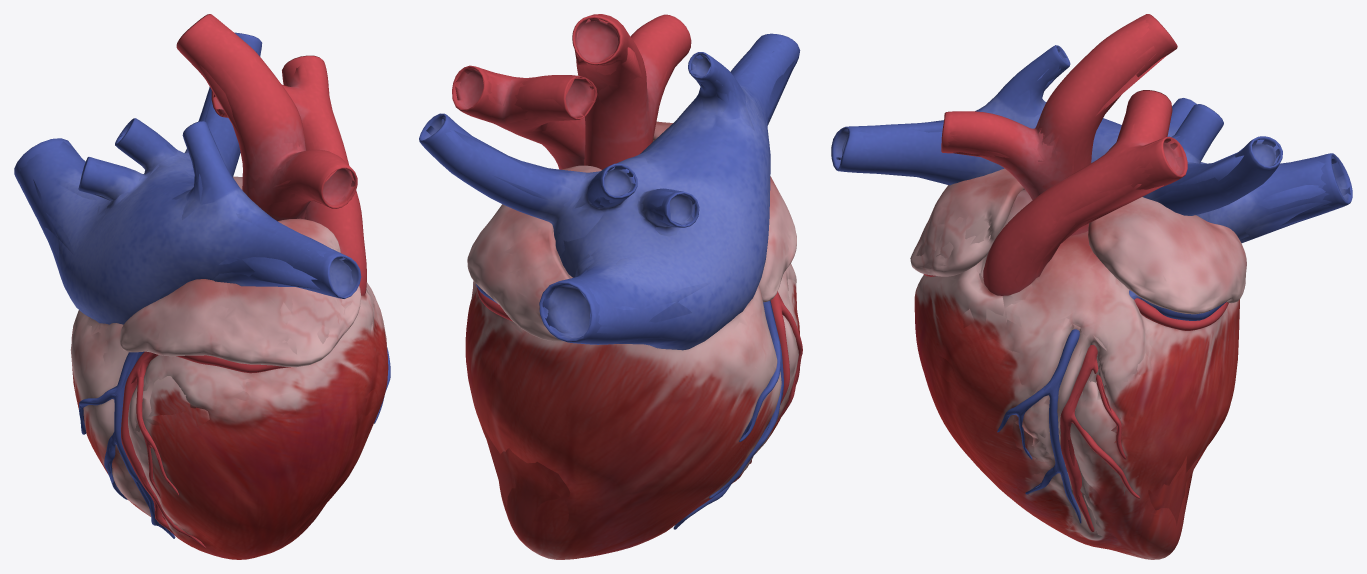
The model's file is Heart.fbx.
The picture shows the model from 3 angles, left to right: view 1: azimuth 30°, elevation 25°; view 2: azimuth 150°, elevation 25°; view 3: azimuth 270°, elevation 25°; orthographic projection. The views are drawn at different scales.
Parts seen in each view (by area): view 1: Heart high, Heart, Heart low; view 2: Heart high, Heart, Heart low; view 3: Heart high, Heart, Heart low.
Boxes of the visible parts, bbox=[...] form: Heart high: bbox=[14, 14, 390, 559]; Heart: bbox=[18, 17, 389, 552]; Heart low: bbox=[33, 51, 374, 536]; Heart high: bbox=[419, 14, 802, 559]; Heart: bbox=[419, 14, 802, 546]; Heart low: bbox=[426, 18, 800, 531]; Heart high: bbox=[831, 14, 1352, 559]; Heart: bbox=[838, 17, 1352, 554]; Heart low: bbox=[836, 48, 1350, 538].
Size of the model in its own units: 19.17 by 34.24 by 30.96.
Materials: 1 (1 with a texture image).
